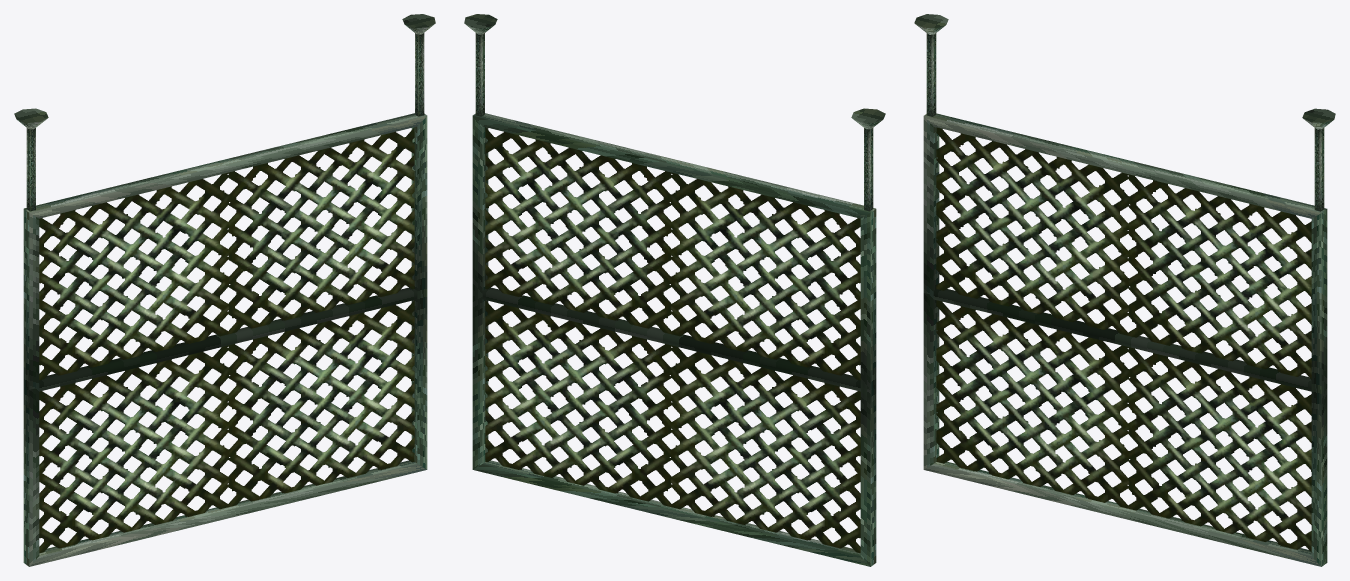
The model's file is a-fenc-1-2.glb.
The picture shows the model from 3 angles, left to right: view 1: azimuth 30°, elevation 25°; view 2: azimuth 150°, elevation 25°; view 3: azimuth 330°, elevation 25°; orthographic projection.
Visible parts, largest first — view 1: a_fenc_1; view 2: a_fenc_1; view 3: a_fenc_1.
Boxes of the visible parts, box(x1,y1,x2,y2) form: a_fenc_1: box(14, 14, 435, 566); a_fenc_1: box(464, 14, 885, 566); a_fenc_1: box(914, 14, 1335, 566).
Bounding box in the file's own units: 420 × 430 × 30.
2 materials, 2 textured.
